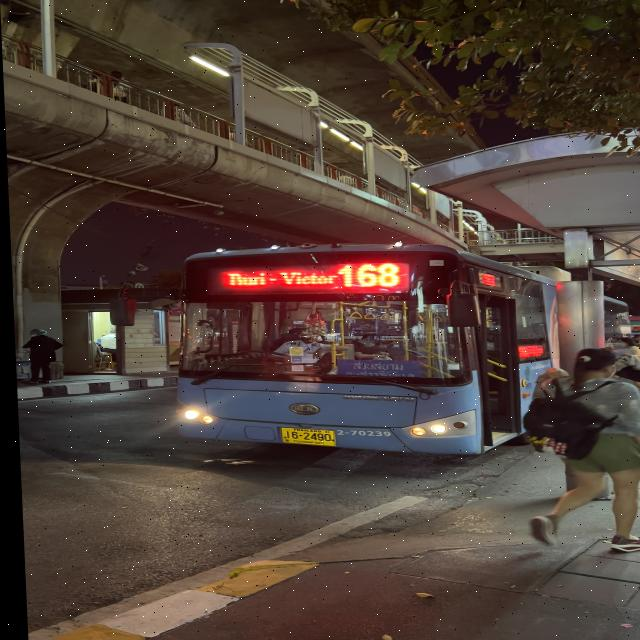BMTA-bus: (165, 243, 551, 458)
Bus Line Number: (331, 261, 405, 289)
Bus Side Number: (331, 427, 393, 440)
Destination Sign: (337, 359, 421, 376)
